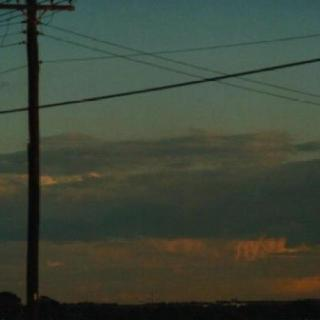Stratocumulus: (0, 114, 320, 306)
